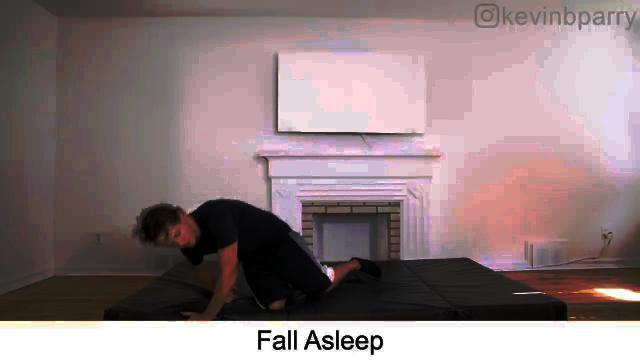jatuh: (130, 192, 394, 318)
